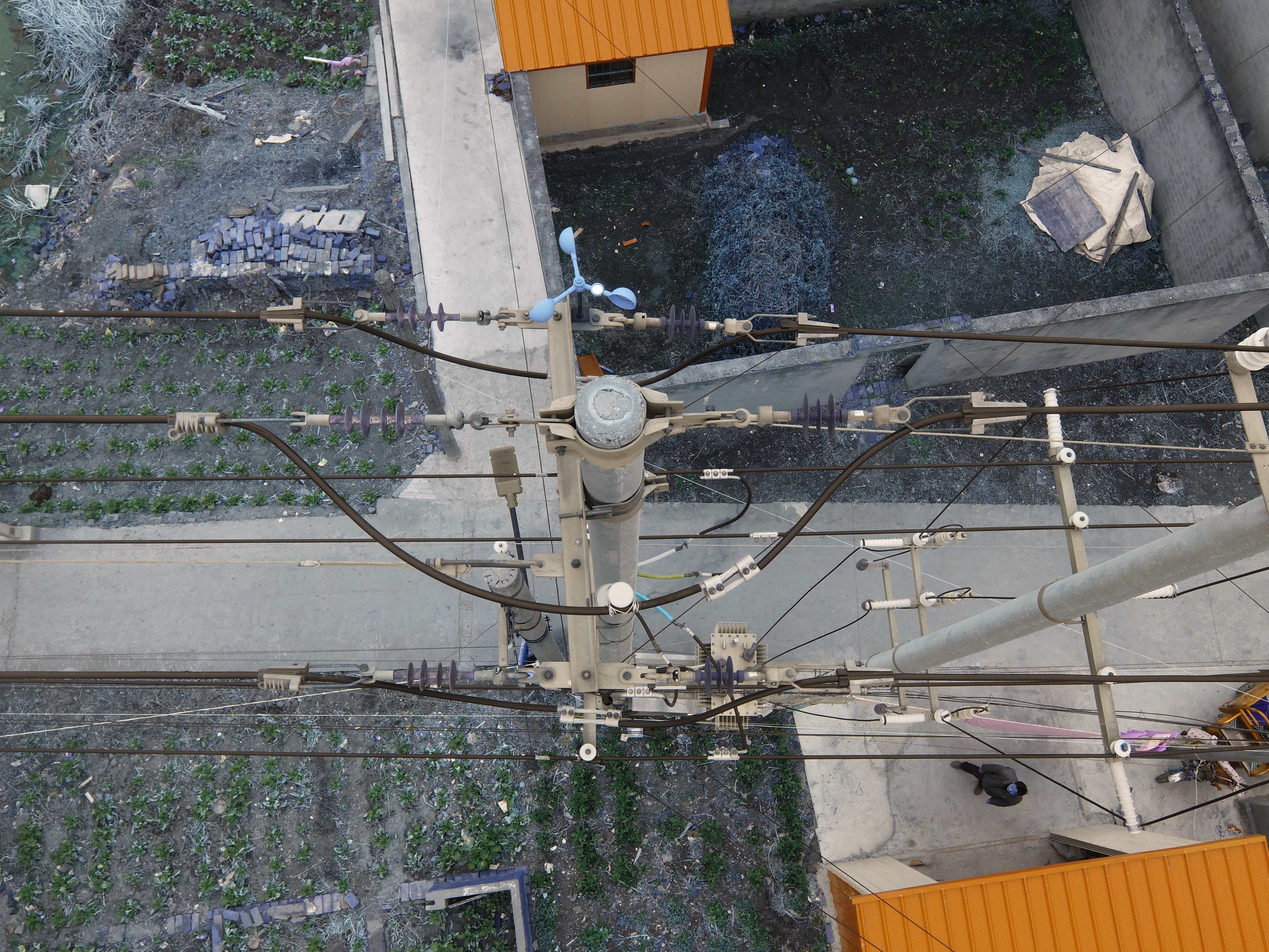severe_soiling_no_discharge_whole: (334, 396, 410, 440), (399, 654, 471, 692), (391, 298, 456, 333)
